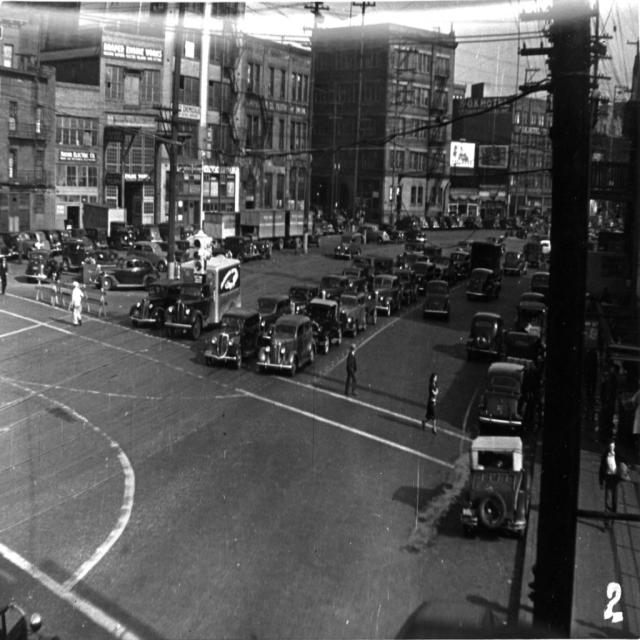car: (257, 317, 318, 379), (422, 279, 450, 320), (334, 229, 360, 257)
